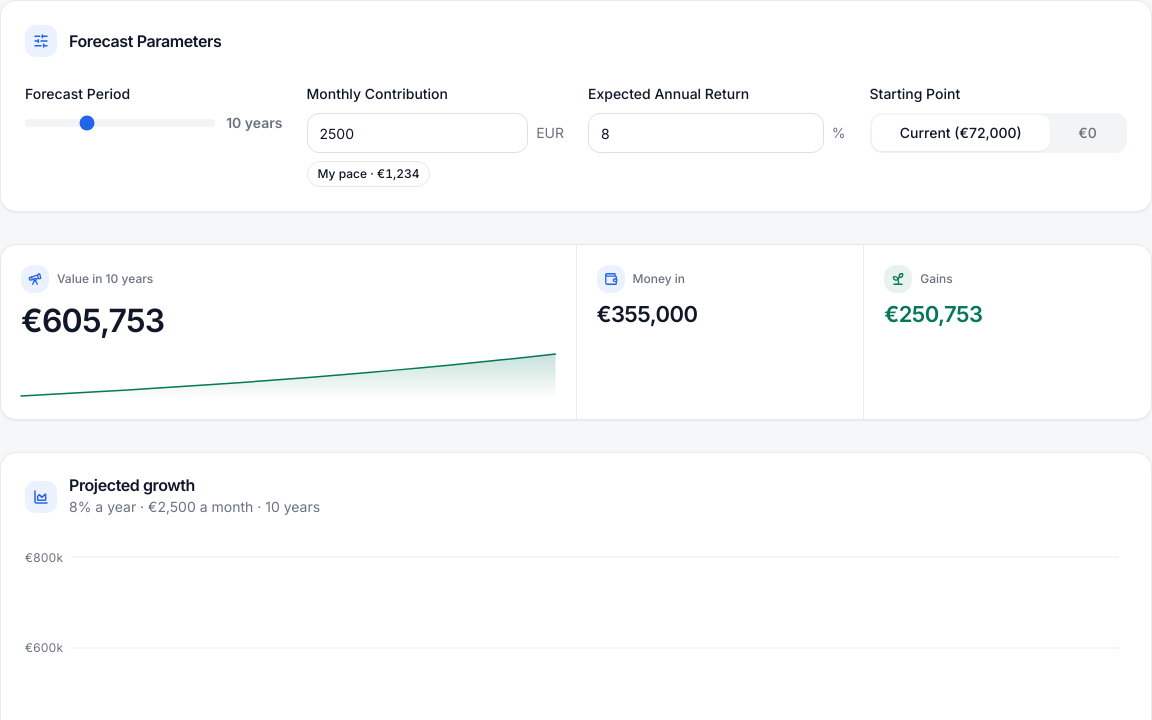
it: the monthly contribution defaults to the real pace › keeps any other legacy value as a choice, and My pace returns to the pace
Expected: the number field named "Monthly Contribution" holds "2500", [306,113,528,153]
Click the button "My pace · €1,234". click: (368, 174)
box: [306,161,430,187]
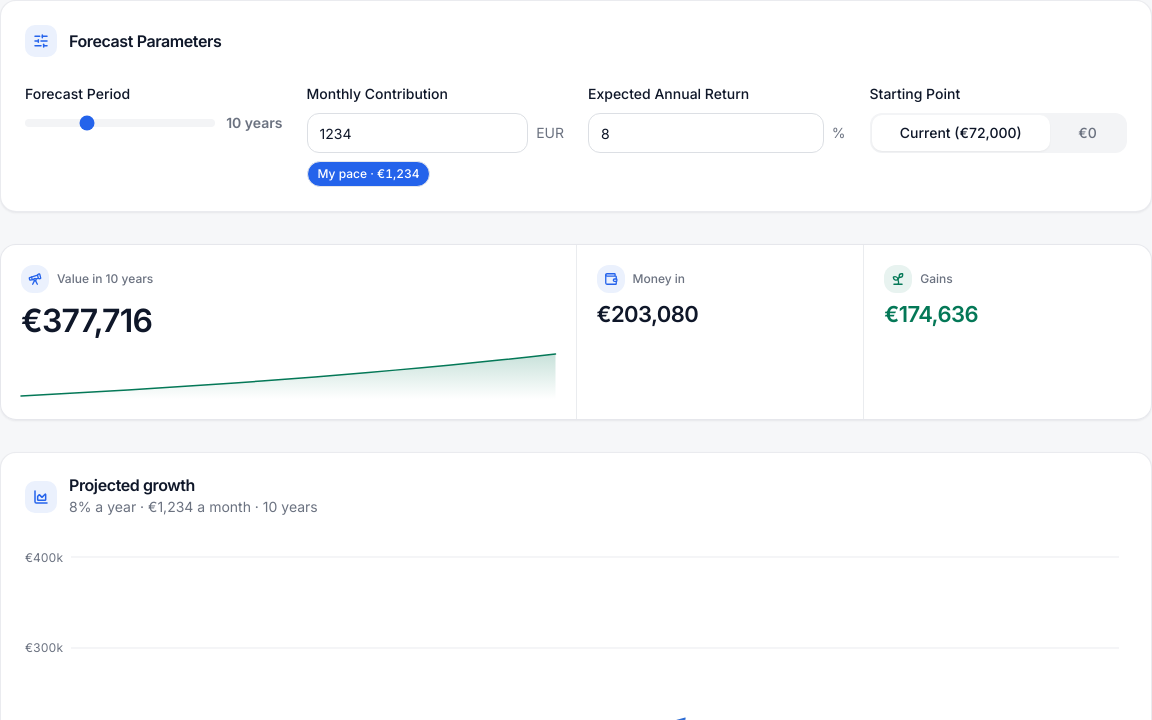
Result: the number field named "Monthly Contribution" holds "1234" at [306,113,528,153]
